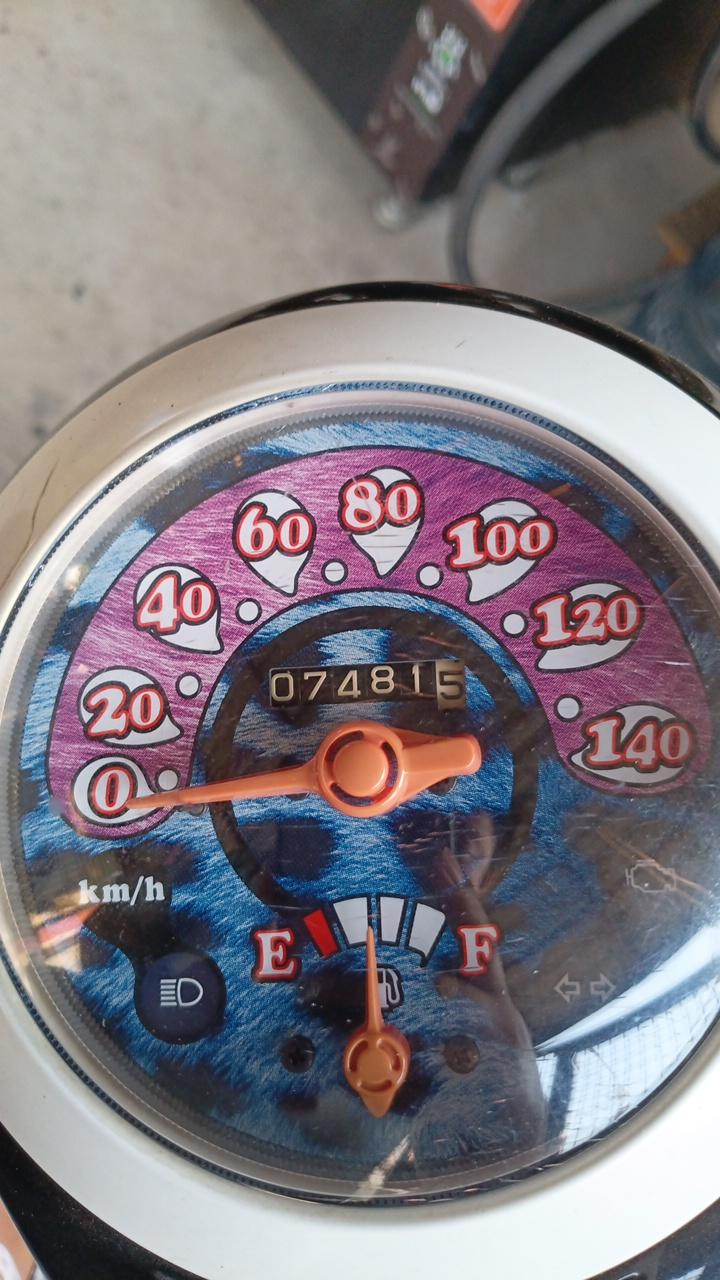0: (270, 673, 294, 703)
1: (410, 663, 421, 694)
4: (337, 670, 362, 699)
5: (439, 669, 465, 701)
7: (303, 671, 327, 702)
8: (370, 665, 395, 695)
odometer: (267, 656, 469, 718)
